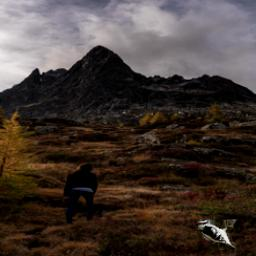Woodpecker: (197, 220, 236, 251)
